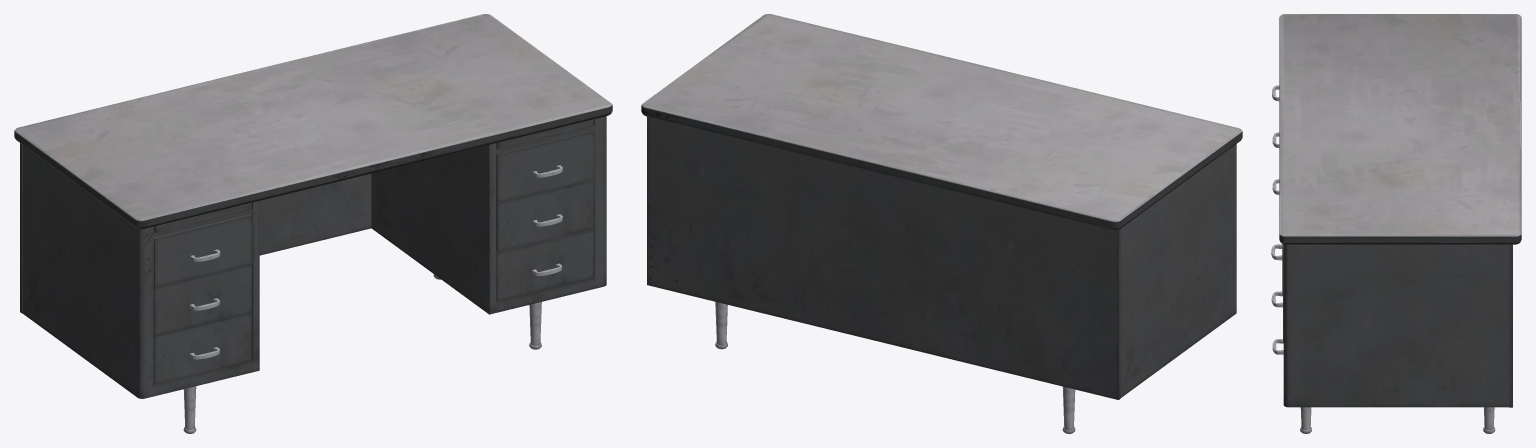
File: desk-metal.glb
3 views of the same model, side by side, from view 1: azimuth 30°, elevation 25°; view 2: azimuth 150°, elevation 25°; view 3: azimuth 270°, elevation 25° (orthographic). The views are drawn at different scales.
Parts seen in each view (by area): view 1: metal_office_desk_drawer_06; view 2: metal_office_desk_drawer_06; view 3: metal_office_desk_drawer_06.
Part boxes in pixels (x1=…): metal_office_desk_drawer_06: x1=14, y1=14, x2=612, y2=433; metal_office_desk_drawer_06: x1=641, y1=14, x2=1242, y2=433; metal_office_desk_drawer_06: x1=1271, y1=14, x2=1521, y2=433.
Bounding box in the file's own units: 1.6 × 0.7599 × 0.7599.
Materials: 1 (1 with a texture image).
